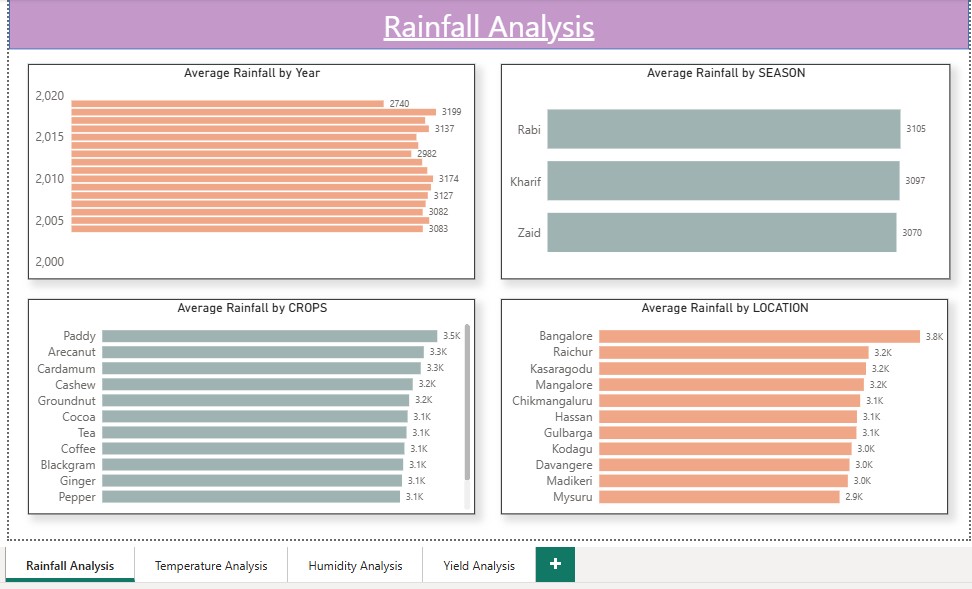

What the dashboard file says about the page in this screenshot:
{"tool":"powerbi","page":{"name":"Rainfall Analysis","canvas":[1280,720],"ordinal":0},"visuals":[{"type":"shape","box":[0,0,1280,67.1],"z":0},{"type":"barChart","fields":{"Category":["AGRICULTURE.YEAR"],"Y":["Avg(AGRICULTURE.RAINFALL)"]},"box":[25.7,87.1,595.7,287.1],"z":1000},{"type":"barChart","fields":{"Category":["AGRICULTURE.SEASON"],"Y":["Avg(AGRICULTURE.RAINFALL)"]},"box":[655.7,87.1,598.6,287.1],"z":2000},{"type":"barChart","fields":{"Category":["AGRICULTURE.CROPS"],"Y":["Avg(AGRICULTURE.RAINFALL)"]},"box":[25.7,400,595.7,287.1],"z":3000},{"type":"barChart","fields":{"Y":["Avg(AGRICULTURE.RAINFALL)"],"Category":["AGRICULTURE.LOCATION"]},"box":[655.7,400,595.7,287.1],"z":4000}]}

Visuals, with their boxes on the page's 1280x720 design canvas (x1, y1, x2, y2). These are canvas units, not pixel positions in the 972x589 screenshot, which may show the page scaled, cropped or inside an application window:
shape: (0,0,1280,67)
barChart - AGRICULTURE.YEAR x Avg(AGRICULTURE.RAINFALL): (26,87,621,374)
barChart - AGRICULTURE.SEASON x Avg(AGRICULTURE.RAINFALL): (656,87,1254,374)
barChart - AGRICULTURE.CROPS x Avg(AGRICULTURE.RAINFALL): (26,400,621,687)
barChart - Avg(AGRICULTURE.RAINFALL) x AGRICULTURE.LOCATION: (656,400,1251,687)
